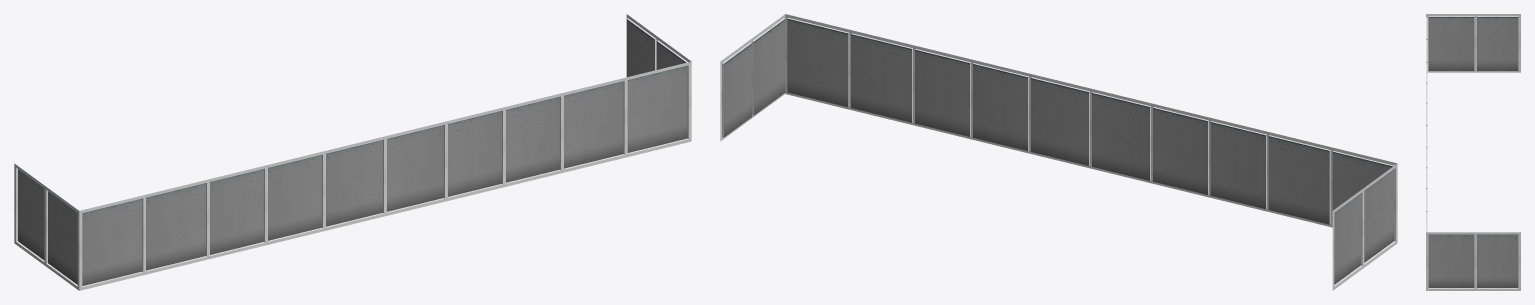
File: Balcony.fbx
The picture shows the model from 3 angles, left to right: view 1: azimuth 30°, elevation 25°; view 2: azimuth 150°, elevation 25°; view 3: azimuth 270°, elevation 25°; orthographic projection. The views are drawn at different scales.
Parts seen in each view (by area): view 1: Balcony; view 2: Balcony; view 3: Balcony.
Boxes of the visible parts, x1,y1,x2,y2 form: Balcony: (14,14,691,290); Balcony: (720,14,1397,290); Balcony: (1426,14,1520,290).
Bounding box in the file's own units: 1040 × 130 × 191.
